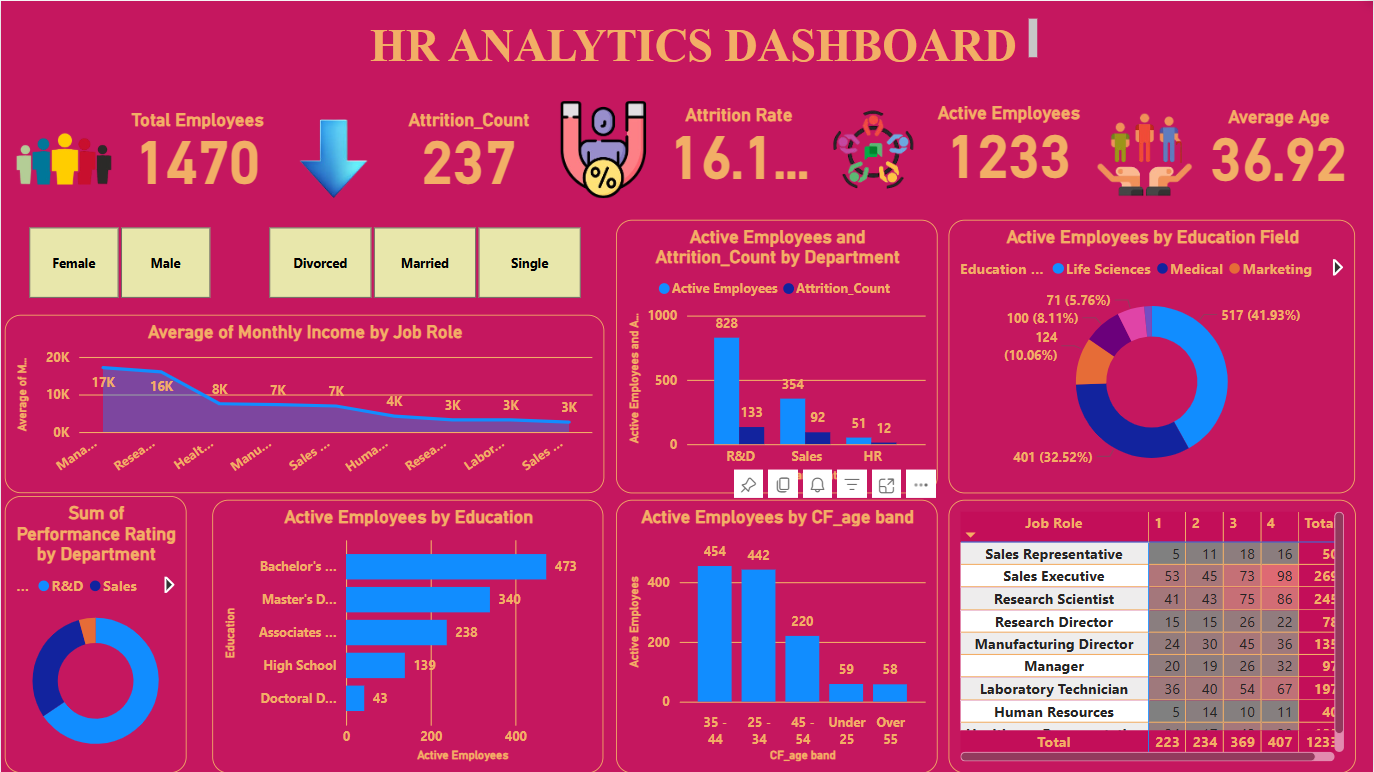

The dashboard page shown, as its layout file describes it:
{"tool":"powerbi","page":{"name":"Page 1","canvas":[1280,720],"ordinal":0},"visuals":[{"type":"card","title":"Total Employees","fields":{"Values":["Sum(HR data.Employee Count)"]},"box":[108.8,100,150,89.7],"z":0},{"type":"card","title":"Attrition_Count","fields":{"Values":["Sum(HR data.Attrition_Count)"]},"box":[360.9,100,150,90],"z":1000},{"type":"card","title":"Attrition Rate","fields":{"Values":["HR data.Attrition_Rate"]},"box":[613,95.9,150,90],"z":2000},{"type":"card","title":"Active Employees","fields":{"Values":["HR data.Active Employees"]},"box":[865.1,94.4,150,90],"z":3000},{"type":"card","title":"Average Age","fields":{"Values":["Avg(HR data.Age)"]},"box":[1117.2,98,150,89.7],"z":4000},{"type":"clusteredColumnChart","title":"Active Employees and Attrition_Count by Department","fields":{"Y":["HR data.Active Employees","Sum(HR data.Attrition_Count)"],"Category":["HR data.Department"]},"box":[573.1,203.8,300,255.1],"z":5000},{"type":"donutChart","fields":{"Y":["HR data.Active Employees"],"Category":["HR data.Education Field"]},"box":[883.3,203.8,379.5,255.1],"z":6000},{"type":"columnChart","fields":{"Y":["HR data.Active Employees"],"Category":["HR data.CF_age band"]},"box":[573.1,465.4,300,255.1],"z":7000},{"type":"pivotTable","fields":{"Rows":["HR data.Job Role"],"Columns":["HR data.Job Satisfaction"],"Values":["HR data.Active Employees"]},"box":[883.3,465.4,380,255.1],"z":8000},{"type":"donutChart","fields":{"Category":["HR data.Department"],"Y":["Sum(HR data.Performance Rating)"]},"box":[3.9,461.8,169.2,258.7],"z":9000},{"type":"clusteredBarChart","fields":{"Category":["HR data.Education"],"Y":["HR data.Active Employees"]},"box":[197.4,465.4,365.1,255.1],"z":10000},{"type":"areaChart","fields":{"Y":["Avg(HR data.Monthly Income)"],"Category":["HR data.Job Role"]},"box":[3.9,292.6,559,166.4],"z":11000},{"type":"slicer","fields":{"Values":["HR data.Gender"]},"box":[0,203.8,219.2,79.5],"z":12000},{"type":"slicer","fields":{"Values":["HR data.Marital Status"]},"box":[224.4,203.8,341,79.5],"z":13000},{"type":"image","box":[511.9,88.2,100,100],"z":14000},{"type":"image","box":[259.8,96.7,100,100],"z":15000},{"type":"image","box":[764,88.7,100,100],"z":16000},{"type":"image","box":[1016.1,92.8,100,100],"z":17000},{"type":"image","box":[7.7,96.4,100,100],"z":18000},{"type":"textbox","box":[339.7,11.3,632,52.6],"z":19000}]}

Visuals, with their boxes in screenshot pixels (x1, y1, x2, y2), scaled from the page's 1280x720 canvas onto the 1374x772 screenshot:
"Total Employees" card: l=117, t=107, r=278, b=203
"Attrition_Count" card: l=387, t=107, r=548, b=204
"Attrition Rate" card: l=658, t=103, r=819, b=199
"Active Employees" card: l=929, t=101, r=1090, b=198
"Average Age" card: l=1199, t=105, r=1360, b=201
"Active Employees and Attrition_Count by Department" clusteredColumnChart: l=615, t=219, r=937, b=492
donutChart - HR data.Active Employees x HR data.Education Field: l=948, t=219, r=1356, b=492
columnChart - HR data.Active Employees x HR data.CF_age band: l=615, t=499, r=937, b=771
pivotTable - HR data.Job Role x HR data.Job Satisfaction: l=948, t=499, r=1356, b=771
donutChart - HR data.Department x Sum(HR data.Performance Rating): l=4, t=495, r=186, b=771
clusteredBarChart - HR data.Education x HR data.Active Employees: l=212, t=499, r=604, b=771
areaChart - Avg(HR data.Monthly Income) x HR data.Job Role: l=4, t=314, r=604, b=492
slicer - HR data.Gender: l=0, t=219, r=235, b=304
slicer - HR data.Marital Status: l=241, t=219, r=607, b=304
image: l=549, t=95, r=657, b=202
image: l=279, t=104, r=386, b=211
image: l=820, t=95, r=927, b=202
image: l=1091, t=100, r=1198, b=207
image: l=8, t=103, r=116, b=211
textbox: l=365, t=12, r=1043, b=69
